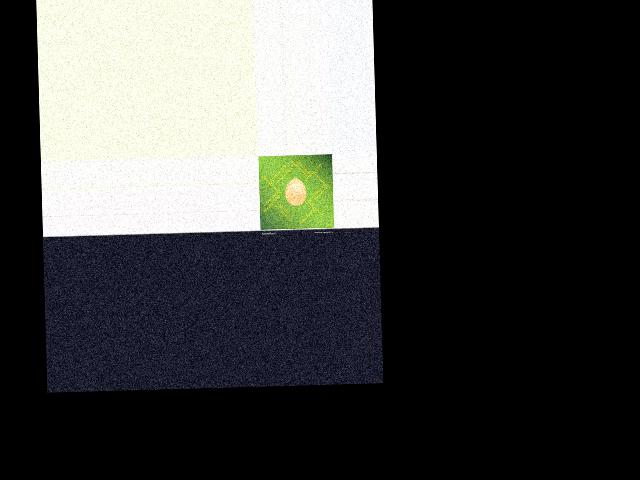egg: (285, 178, 306, 205)
